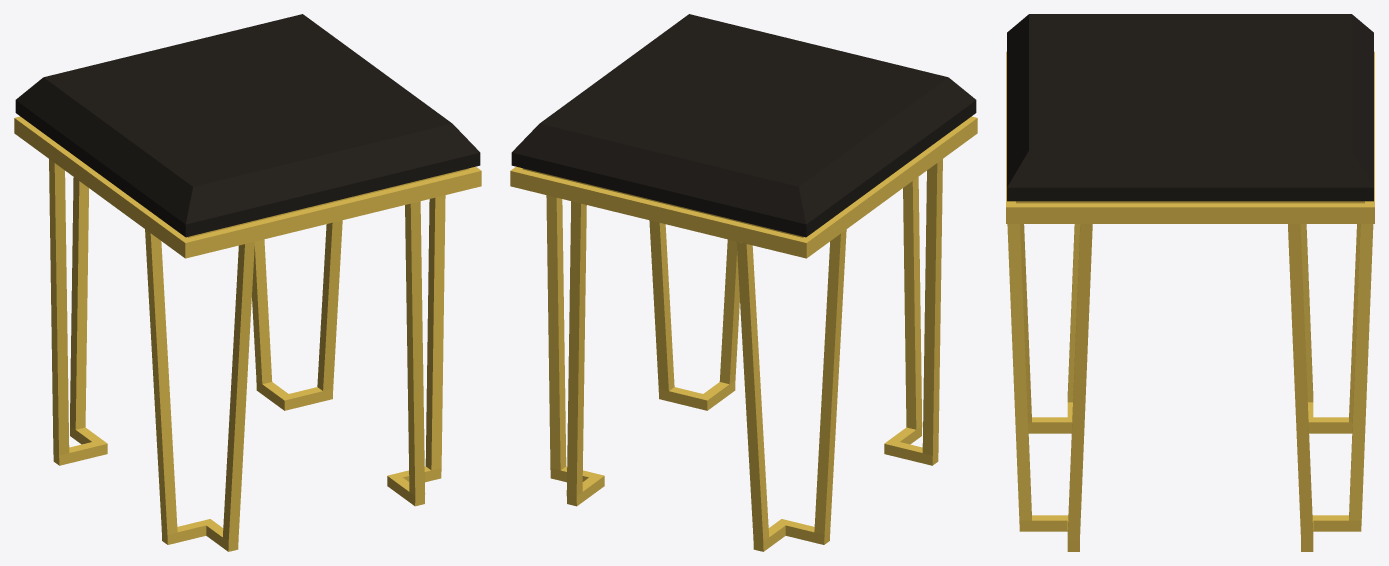
The model's file is mesilla.fbx.
3 views of the same model, side by side, from view 1: azimuth 30°, elevation 25°; view 2: azimuth 150°, elevation 25°; view 3: azimuth 270°, elevation 25° (orthographic). The views are drawn at different scales.
Parts seen in each view (by area): view 1: Cube.001; view 2: Cube.001; view 3: Cube.001.
Boxes of the visible parts, box(x1,y1,x2,y2) form: Cube.001: box(14, 14, 481, 551); Cube.001: box(510, 14, 977, 551); Cube.001: box(1006, 14, 1374, 551).
Bounding box in the file's own units: 60.01 × 71.5 × 60.01.
